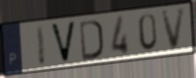0: (137, 12, 159, 53)
4: (109, 13, 131, 59)
D: (78, 18, 105, 62)
I: (34, 23, 47, 68)
V: (160, 6, 188, 53), (49, 20, 78, 65)
